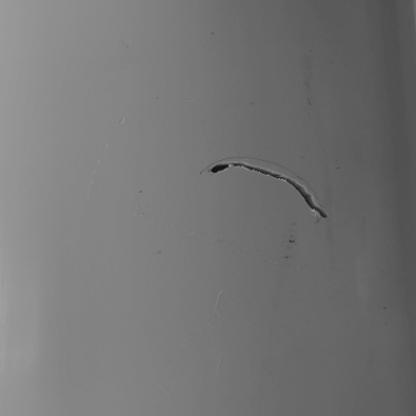fengxi: (204, 154, 332, 223)
